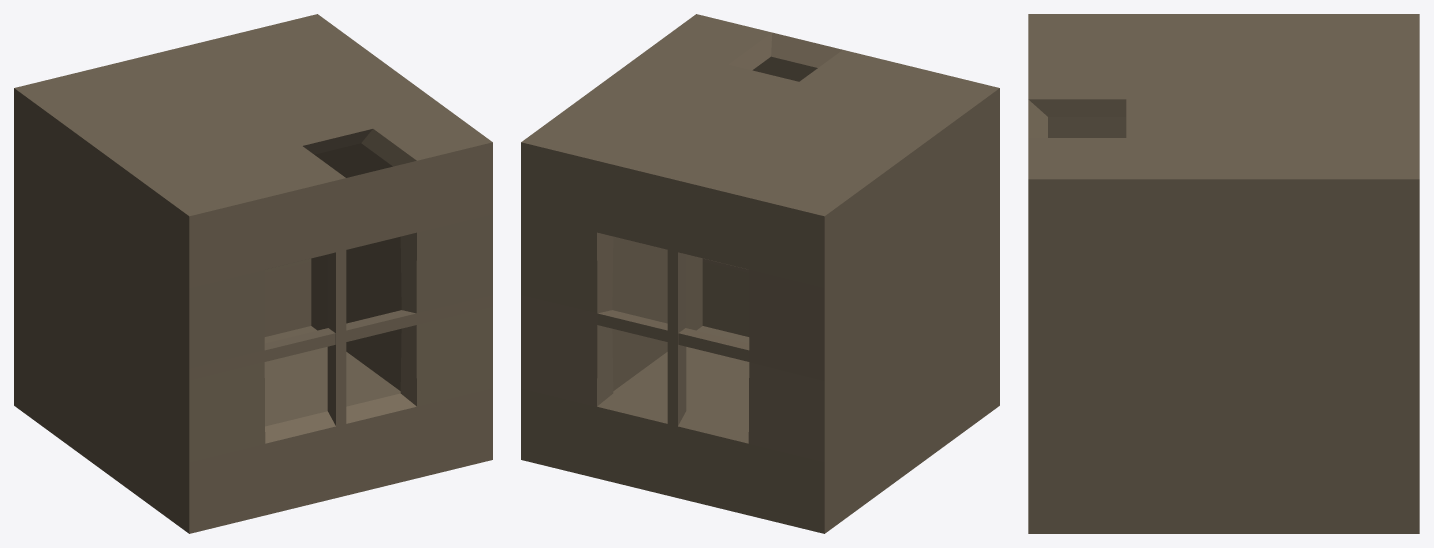
The model's file is Wall.glb.
3 renders of one model, left to right at view 1: azimuth 30°, elevation 25°; view 2: azimuth 150°, elevation 25°; view 3: azimuth 270°, elevation 25°, orthographic. The views are drawn at different scales.
Visible parts, largest first — view 1: Room; view 2: Room; view 3: Room.
Boxes of the visible parts, <box> form: Room: <box>14,14,492,533</box>; Room: <box>521,14,999,533</box>; Room: <box>1028,14,1419,533</box>.
Bounding box in the file's own units: 11.11 × 11.11 × 11.11.
